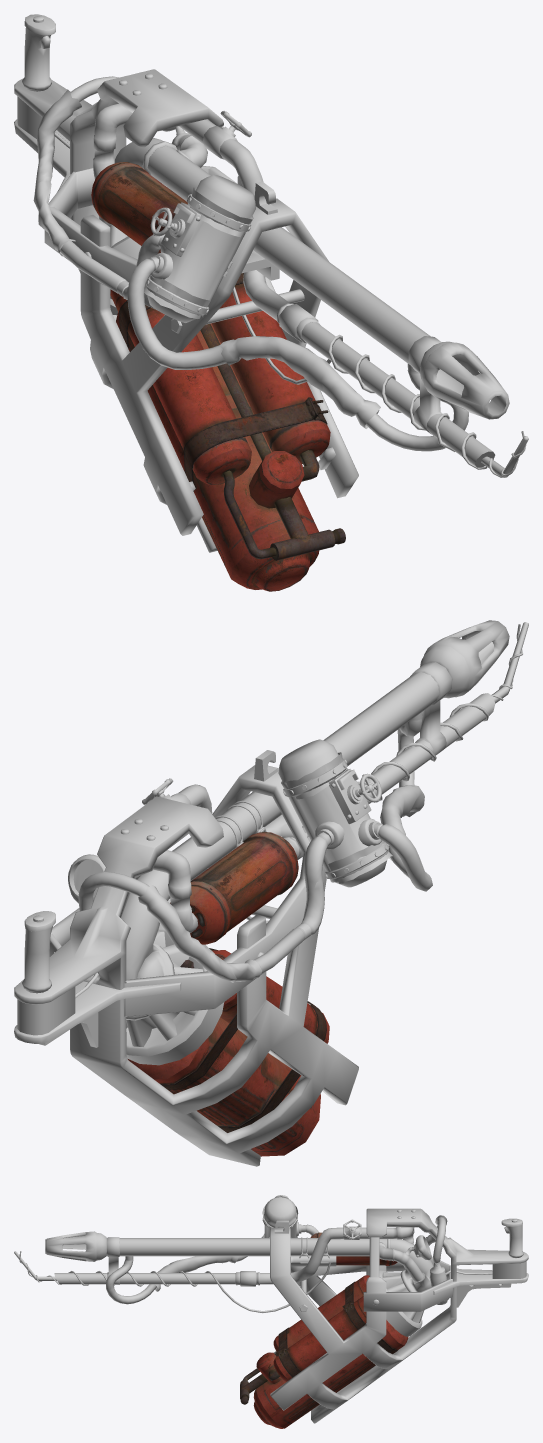
File: Flamethrower.obj
The picture shows the model from 3 angles, top to bottom: view 1: azimuth 30°, elevation 25°; view 2: azimuth 150°, elevation 25°; view 3: azimuth 270°, elevation 25°; orthographic projection. The views are drawn at different scales.
Parts seen in each view (by area): view 1: Flamethrower; view 2: Flamethrower; view 3: Flamethrower.
Part boxes in pixels (x1,y1,x2,y2): Flamethrower: (14,14,528,591); Flamethrower: (14,620,528,1166); Flamethrower: (14,1195,528,1428).
Bounding box in the file's own units: 27.86 × 48.06 × 104.
